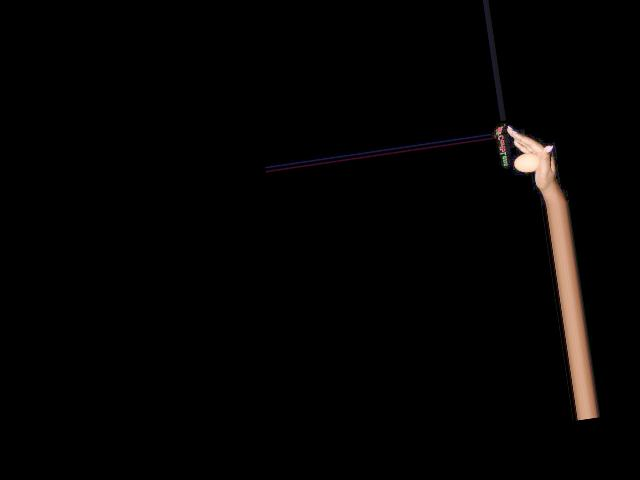egg: (512, 151, 541, 174)
